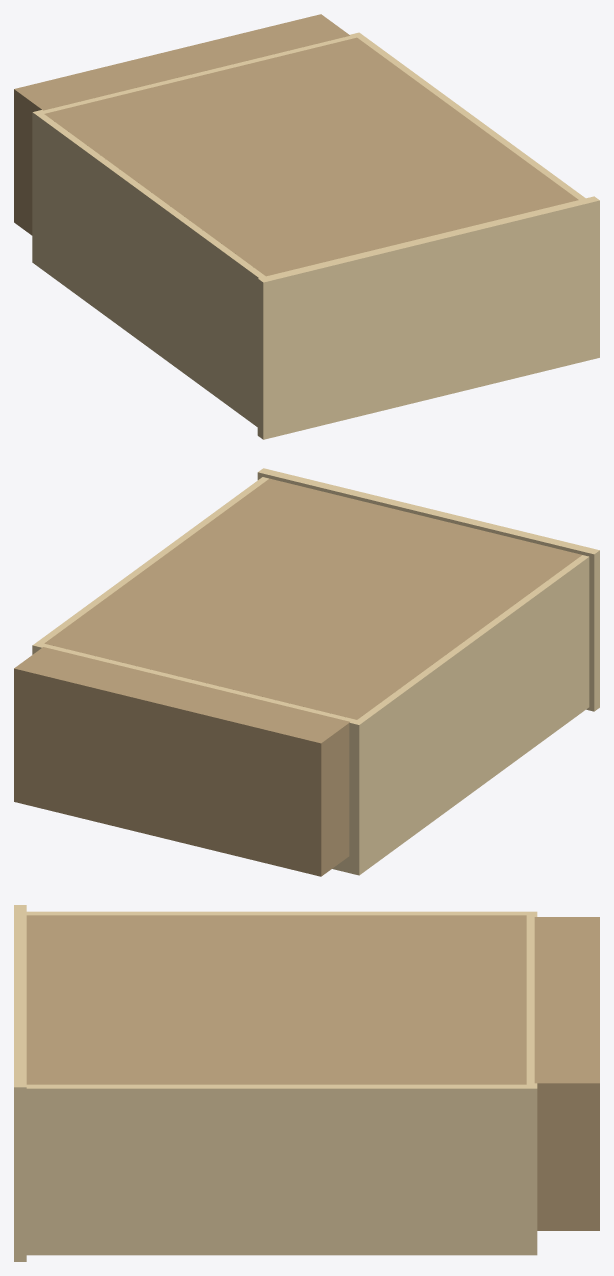
Rendered from count-door_count-1.glb.
The picture shows the model from 3 angles, top to bottom: view 1: azimuth 30°, elevation 25°; view 2: azimuth 150°, elevation 25°; view 3: azimuth 270°, elevation 25°; orthographic projection. The views are drawn at different scales.
Parts seen in each view (by area): view 1: carcass__body_form__rect_box__side_panel_0, carcass__support_base__recessed_plinth__toe_kick_box; view 2: carcass__support_base__recessed_plinth__toe_kick_box, carcass__body_form__rect_box__side_panel_0; view 3: carcass__support_base__recessed_plinth__toe_kick_box, carcass__body_form__rect_box__side_panel_0.
Boxes of the visible parts, <box> form: carcass__body_form__rect_box__side_panel_0: <box>32,32,599,439</box>; carcass__support_base__recessed_plinth__toe_kick_box: <box>14,14,578,276</box>; carcass__support_base__recessed_plinth__toe_kick_box: <box>14,478,581,876</box>; carcass__body_form__rect_box__side_panel_0: <box>32,468,599,875</box>; carcass__support_base__recessed_plinth__toe_kick_box: <box>26,915,599,1230</box>; carcass__body_form__rect_box__side_panel_0: <box>14,905,537,1261</box>.
Size of the model in its own units: 1.03 by 0.489 by 1.4.
